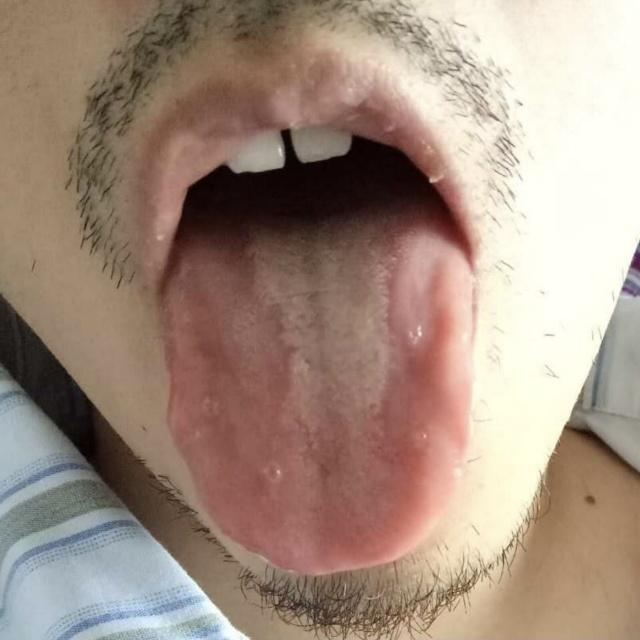baitaishe: (164, 217, 479, 577)
